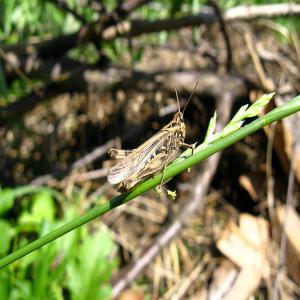locust: (105, 82, 199, 195)
